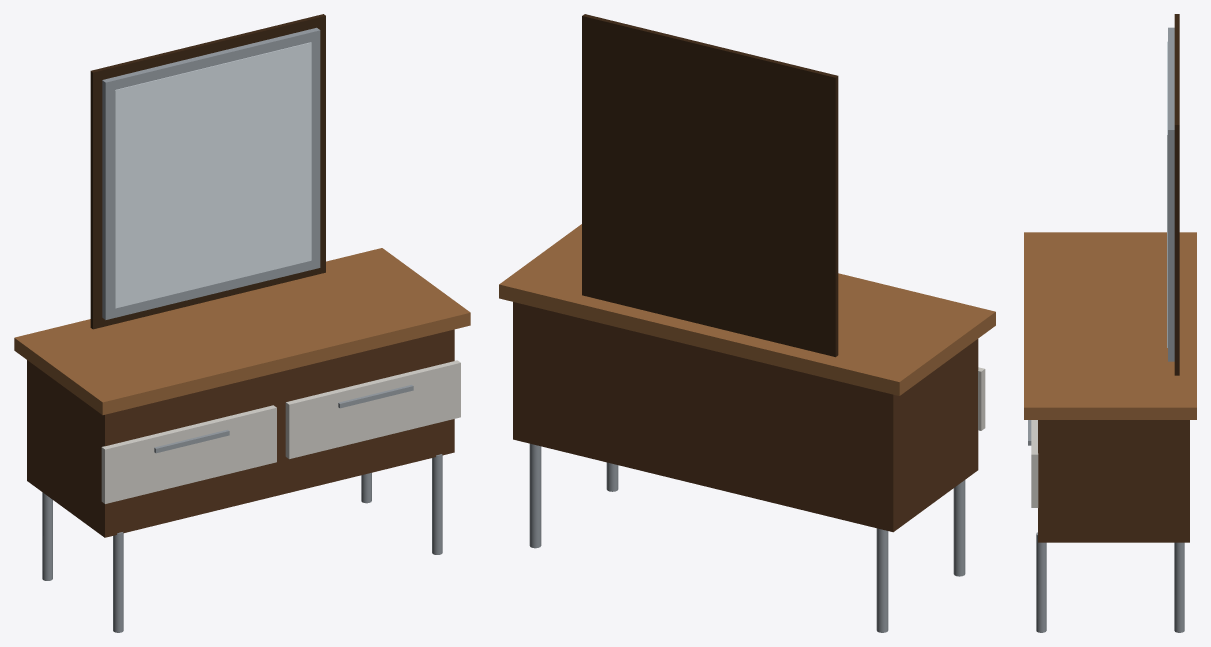
The model's file is vanity.glb.
3 renders of one model, left to right at view 1: azimuth 30°, elevation 25°; view 2: azimuth 150°, elevation 25°; view 3: azimuth 270°, elevation 25°, orthographic. The views are drawn at different scales.
Parts seen in each view (by area): view 1: material-4-mirror, material-3-top, material-1-body, material-2-drawer, material-5-metal, material-6-trim, material-0-leg; view 2: material-6-trim, material-1-body, material-3-top, material-0-leg; view 3: material-3-top, material-1-body, material-5-metal, material-6-trim, material-0-leg, material-2-drawer, material-4-mirror.
Part boxes in pixels (x1=…): material-4-mirror: x1=115, y1=42, x2=311, y2=308; material-3-top: x1=14, y1=248, x2=470, y2=414; material-1-body: x1=27, y1=329, x2=454, y2=537; material-2-drawer: x1=101, y1=360, x2=460, y2=503; material-5-metal: x1=102, y1=27, x2=413, y2=453; material-6-trim: x1=90, y1=14, x2=325, y2=329; material-0-leg: x1=42, y1=454, x2=442, y2=632; material-6-trim: x1=582, y1=14, x2=838, y2=357; material-1-body: x1=513, y1=302, x2=978, y2=532; material-3-top: x1=499, y1=224, x2=995, y2=395; material-0-leg: x1=529, y1=443, x2=965, y2=632; material-3-top: x1=1024, y1=232, x2=1196, y2=419; material-1-body: x1=1038, y1=420, x2=1189, y2=542; material-5-metal: x1=1028, y1=27, x2=1174, y2=445; material-6-trim: x1=1174, y1=14, x2=1179, y2=375; material-0-leg: x1=1036, y1=532, x2=1184, y2=632; material-2-drawer: x1=1031, y1=420, x2=1038, y2=507; material-4-mirror: x1=1167, y1=41, x2=1167, y2=347.
Bounding box in the file's own units: 1.2 × 1.55 × 0.5.
